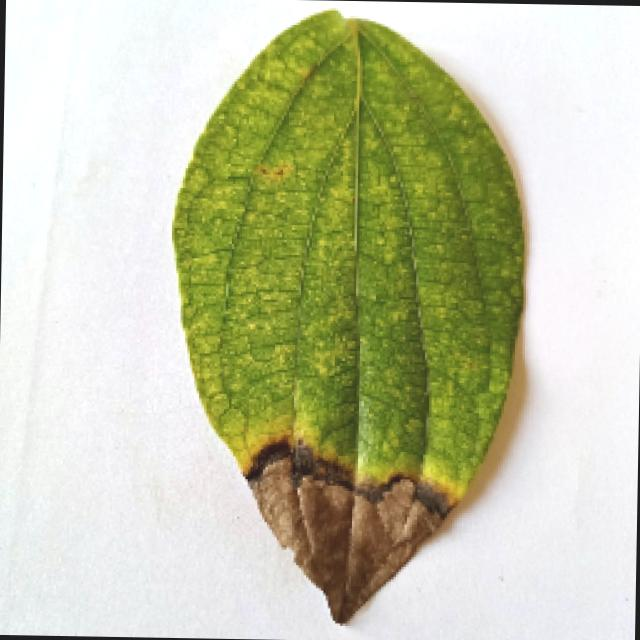footrot: (132, 25, 562, 634)
